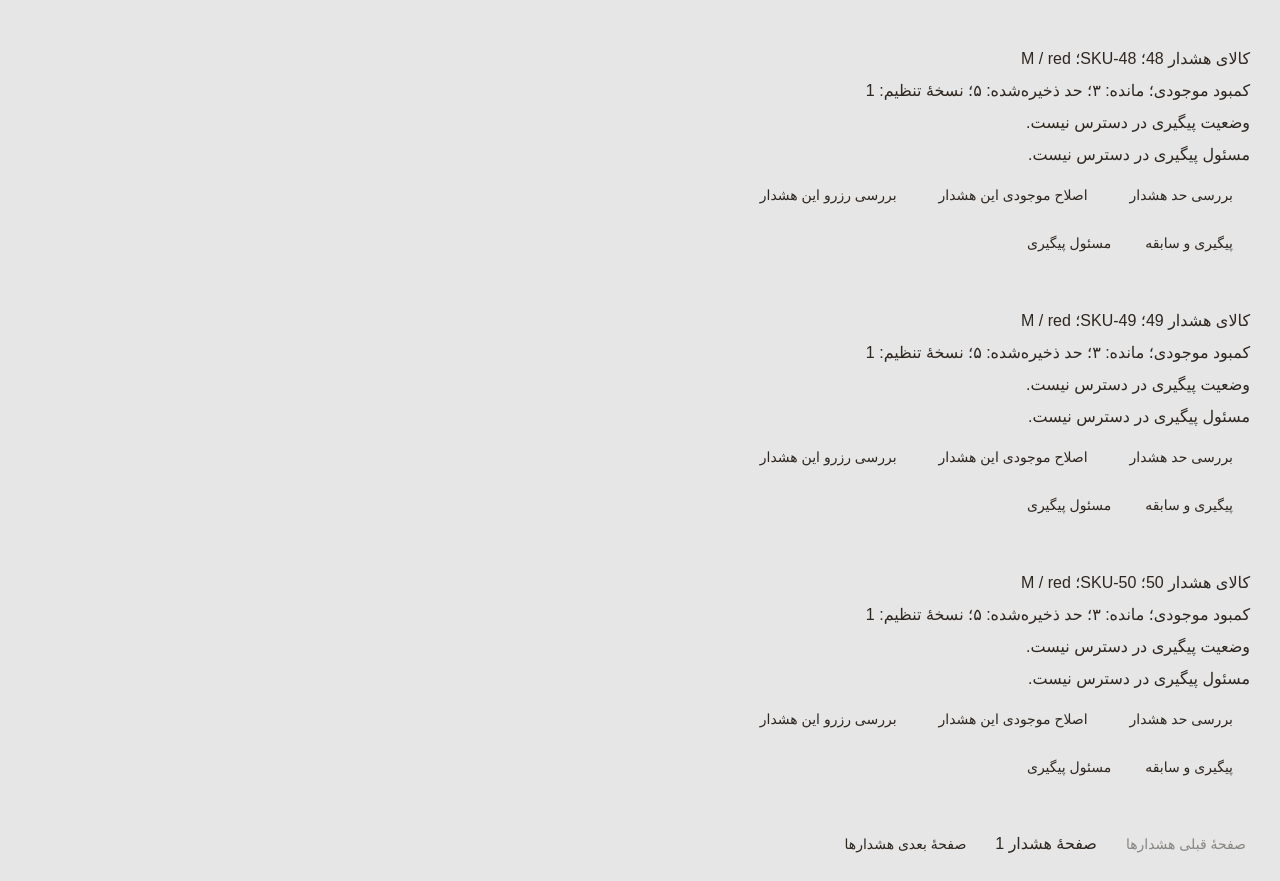
Scenario: resets the product cursor when selecting my alerts and shows the current assignee
The image size is (1280, 881).
(page scrolled)
Expected: the text "کالای هشدار 50؛ SKU-50؛ M / red" is shown, [1021,574,1250,591]
Click the button "صفحهٔ بعدی هشدارها": (905, 844) [828,824,983,864]
(page scrolled)
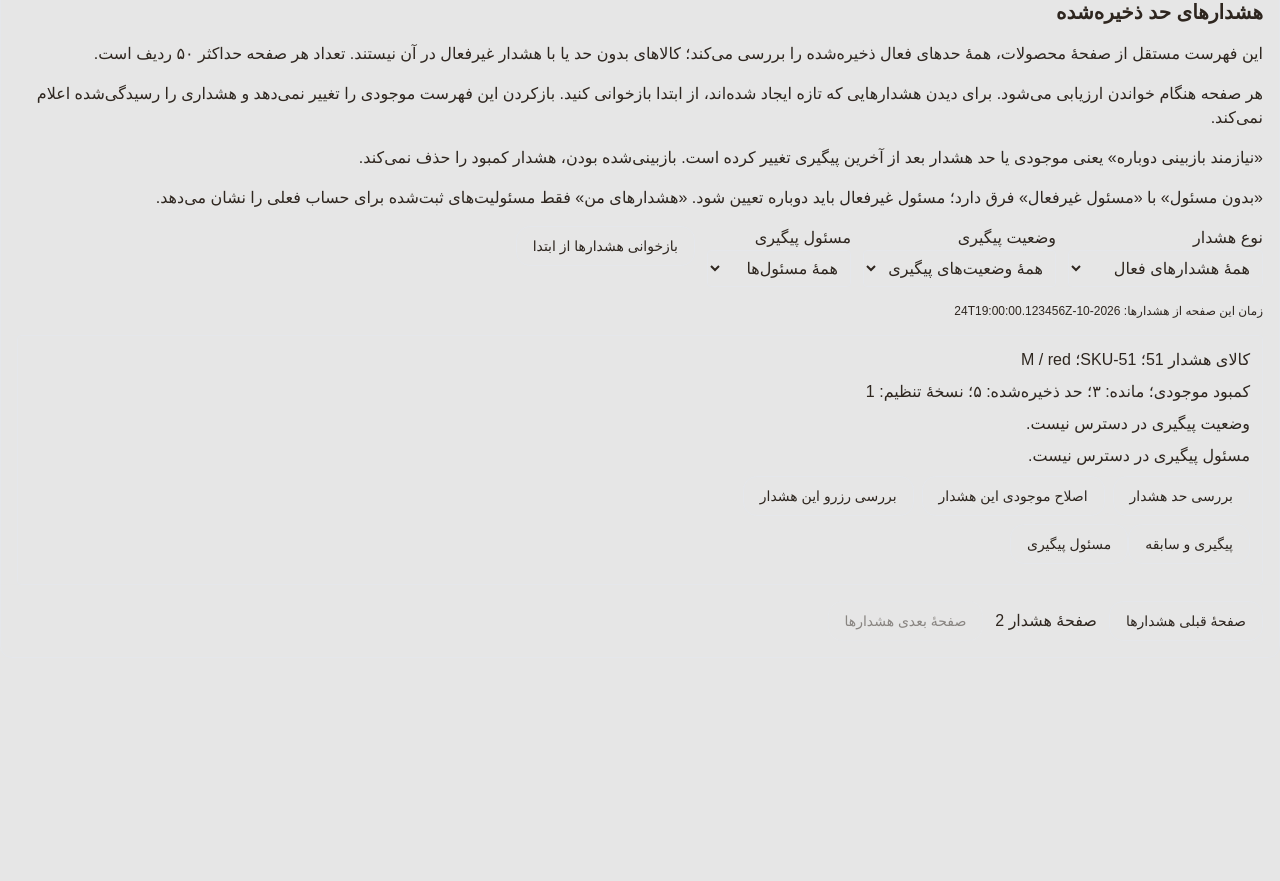
Expected: the text "کالای هشدار 51؛ SKU-51؛ M / red" is shown, [1021,351,1250,368]
Select "هشدارهای من" in the dropdown named "فیلتر مسئول پیگیری": (779, 268) [707,250,851,287]
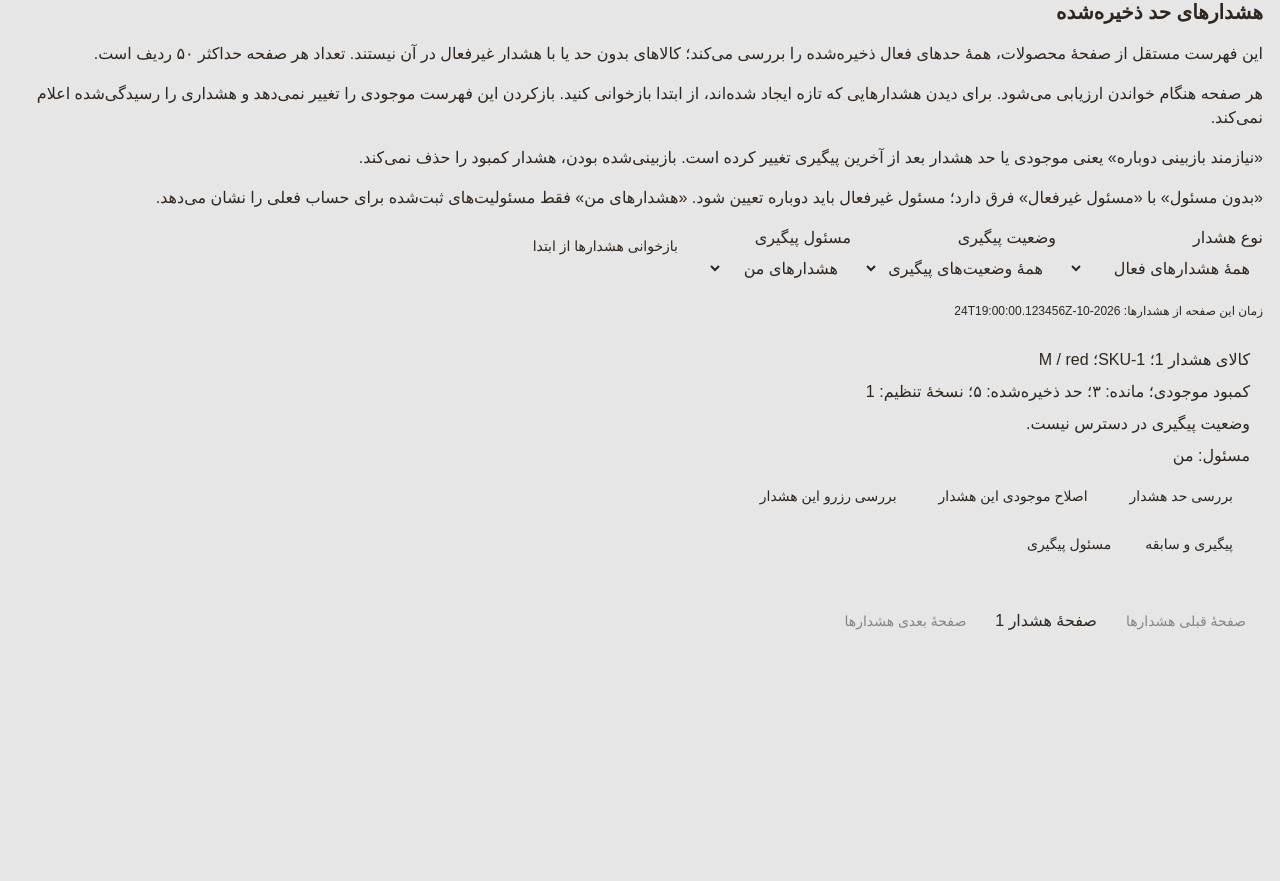
Expected: the text "مسئول: من" is shown, [1173,447,1250,464]
